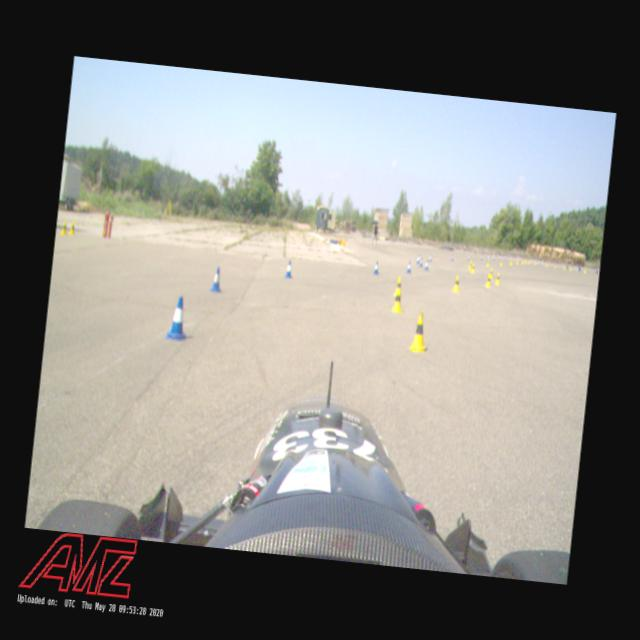blue_cone: (165, 294, 190, 342), (209, 265, 223, 293), (373, 260, 380, 274), (406, 260, 412, 274), (424, 258, 429, 270), (418, 256, 423, 266), (428, 252, 432, 262), (416, 254, 420, 264), (451, 254, 454, 261)
yellow_cone: (407, 309, 432, 353), (392, 289, 404, 313), (393, 275, 404, 296), (452, 274, 461, 292), (68, 220, 76, 236), (59, 220, 67, 235), (494, 272, 502, 285), (485, 274, 491, 288), (470, 262, 476, 273), (488, 268, 494, 278), (468, 259, 472, 270), (499, 258, 502, 266), (486, 259, 489, 266), (509, 258, 512, 264)
